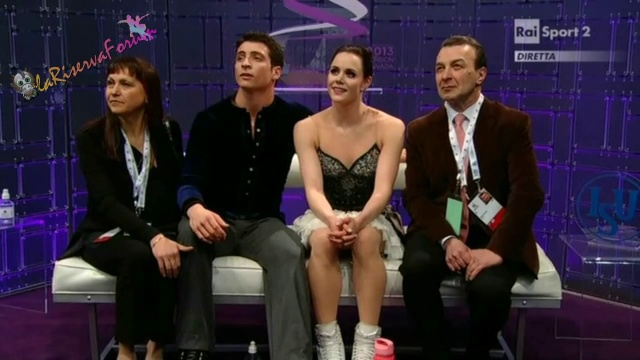person: (397, 33, 550, 353), (172, 35, 315, 356), (52, 58, 202, 360), (292, 45, 402, 360)
